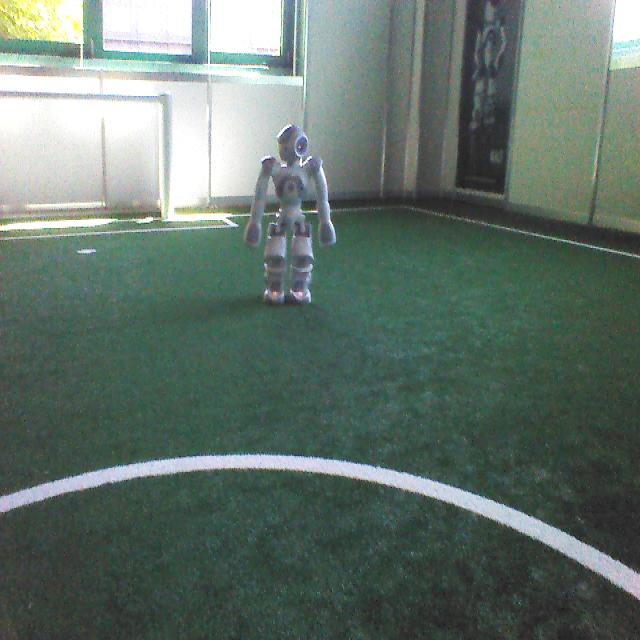goalpost: (158, 90, 174, 222)
